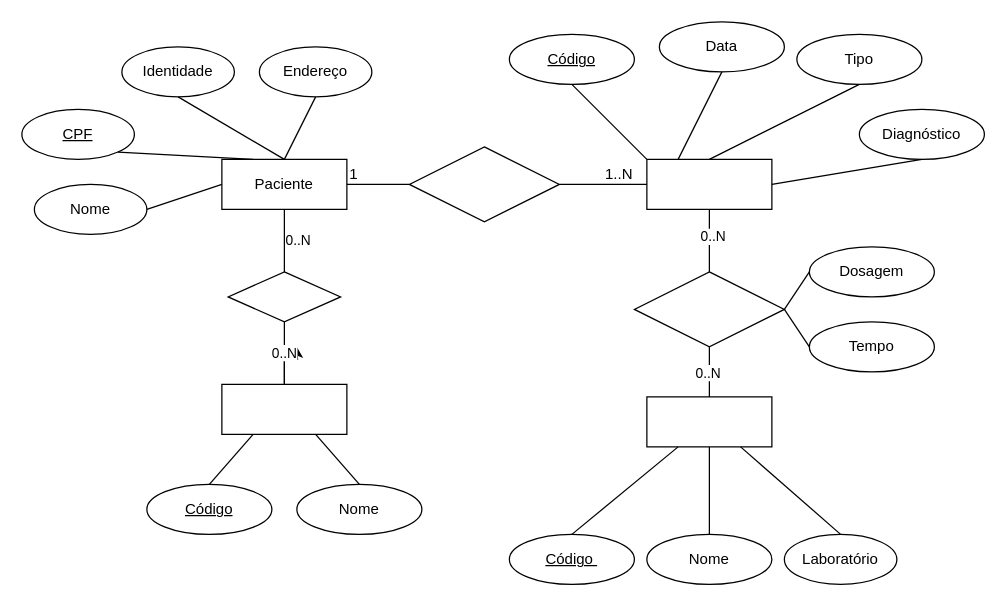
Some shapes in this 1006 by 606 pixel diagram are drawn without their labels. Here are the shapes that lost their labels. From the top down, the centre of each, then its label:
pixel 483 184: Realiza
pixel 709 183: Consulta
pixel 284 296: Possui
pixel 708 309: Prescreve
pixel 284 408: Planos de Saúde
pixel 709 421: Medicações
